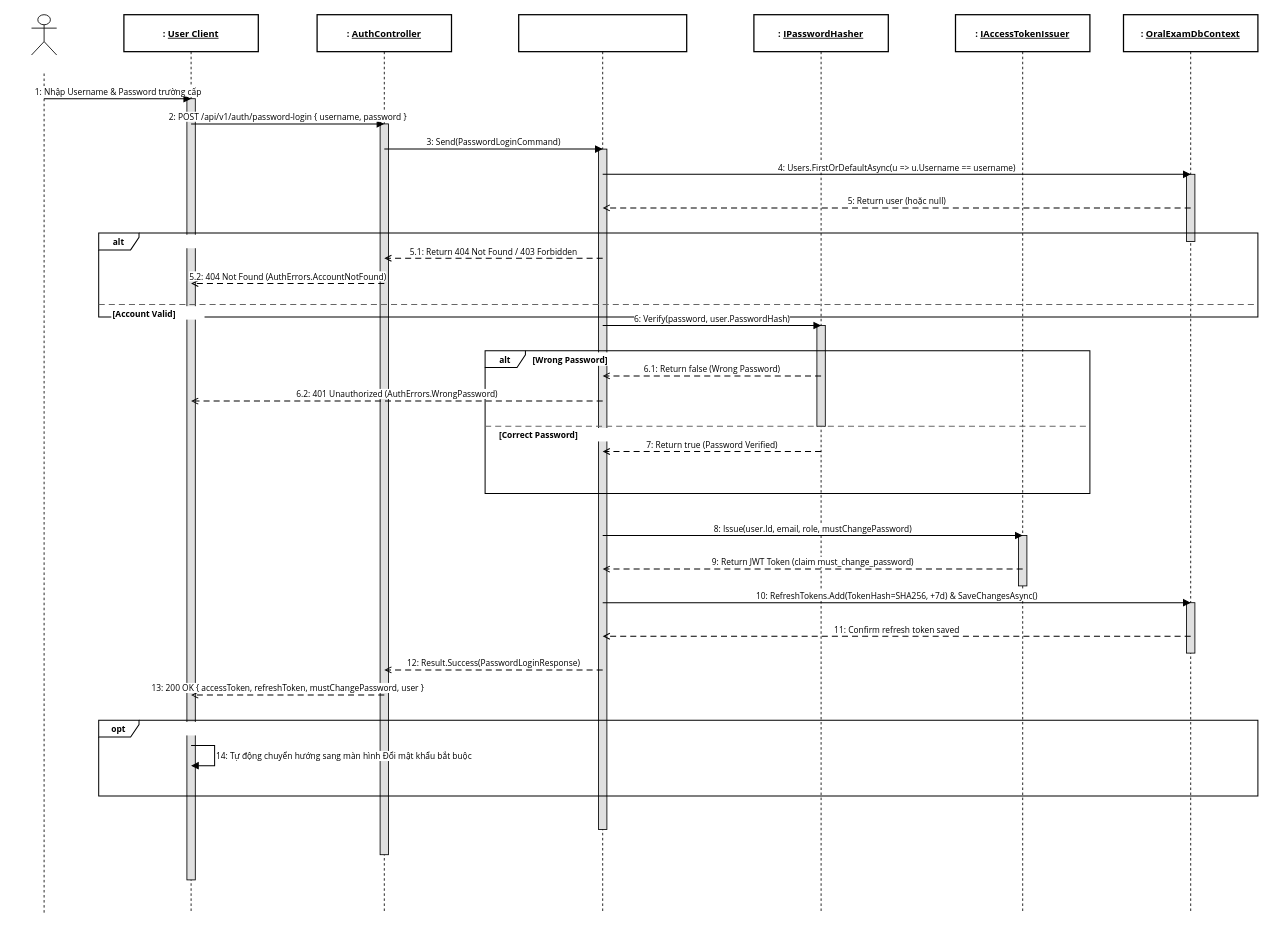
Some shapes in this 1274 by 930 pixel diagram are drawn without their labels. Here are the shapes that lost their labels. From the top down, the centre of each, then its label:
the point at 44,34: : Người dùng
the point at 602,33: : PasswordLoginCommandHandler
the point at 232,241: [Account Not Found or Locked]
the point at 229,728: [mustChangePassword == true]
